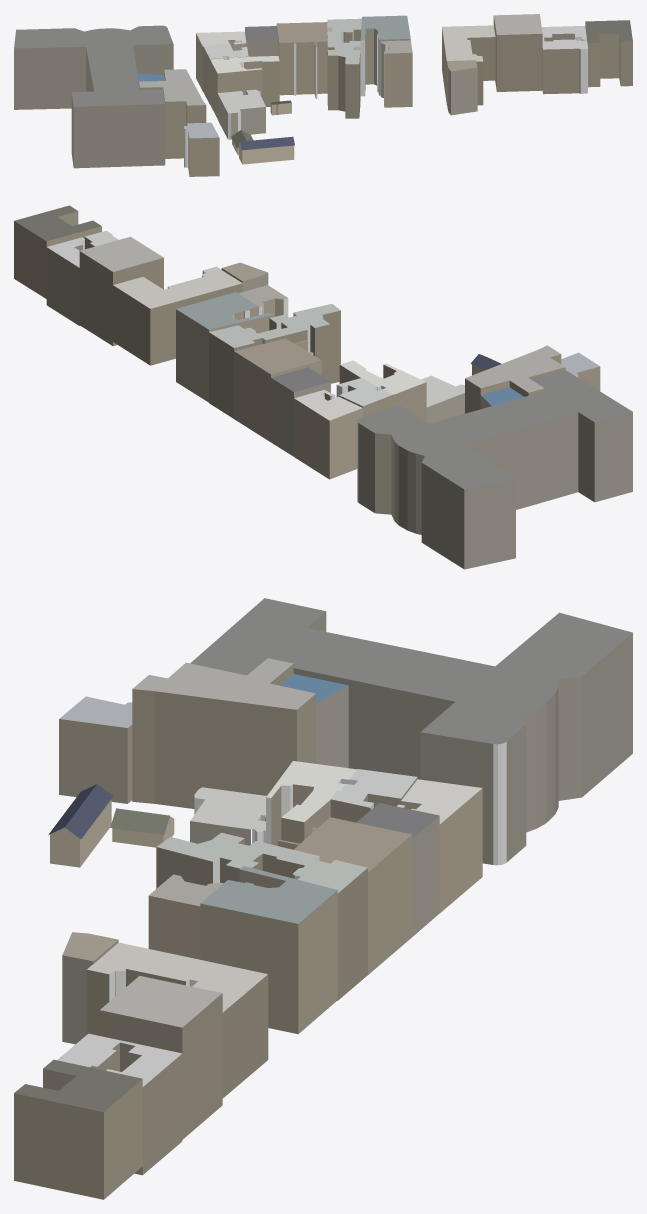
3 renders of one model, top to bottom at view 1: azimuth 30°, elevation 25°; view 2: azimuth 150°, elevation 25°; view 3: azimuth 270°, elevation 25°, orthographic. The views are drawn at different scales.
Parts seen in each view (by area): view 1: tuile; view 2: tuile; view 3: tuile.
Part boxes in pixels (left/top/right/bottom): tuile: left=14, top=14, right=632, bottom=176; tuile: left=14, top=205, right=632, bottom=569; tuile: left=14, top=598, right=632, bottom=1199.
Bounding box in the file's own units: 260 × 30.66 × 137.
